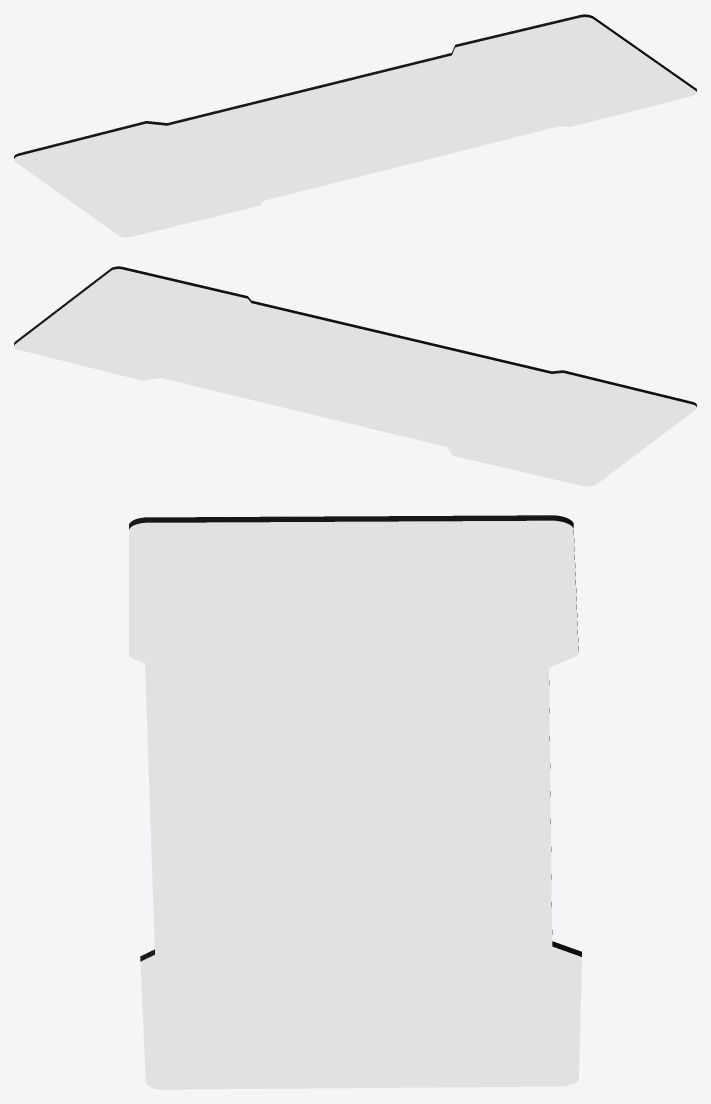
The model's file is Razer_Goliathus_Mousemat_Extended_Control_Edition.fbx.
3 views of the same model, one above another, from view 1: azimuth 30°, elevation 25°; view 2: azimuth 150°, elevation 25°; view 3: azimuth 270°, elevation 25° (orthographic). The views are drawn at different scales.
Parts seen in each view (by area): view 1: Model; view 2: Model; view 3: Model.
Boxes of the visible parts, <box> form: Model: <box>14,14,696,237</box>; Model: <box>14,266,696,486</box>; Model: <box>129,515,581,1089</box>.
Bounding box in the file's own units: 1.95 × 0.0086 × 0.6559.
2 materials, 1 textured.
